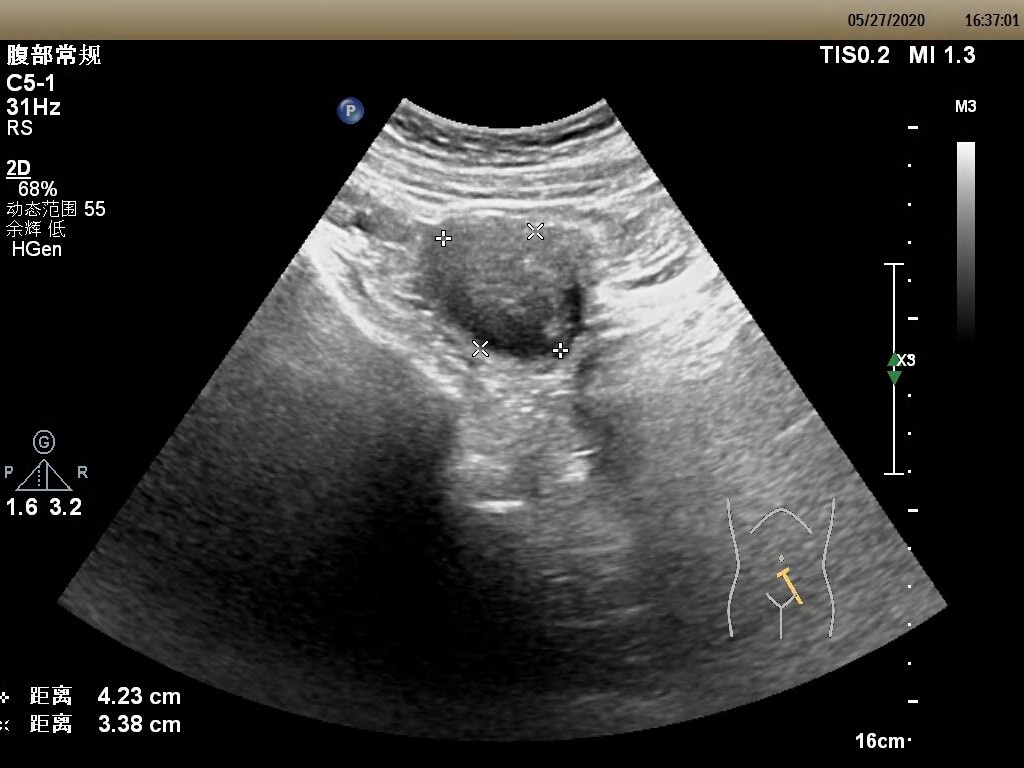肌瘤: (447, 226, 569, 341)
